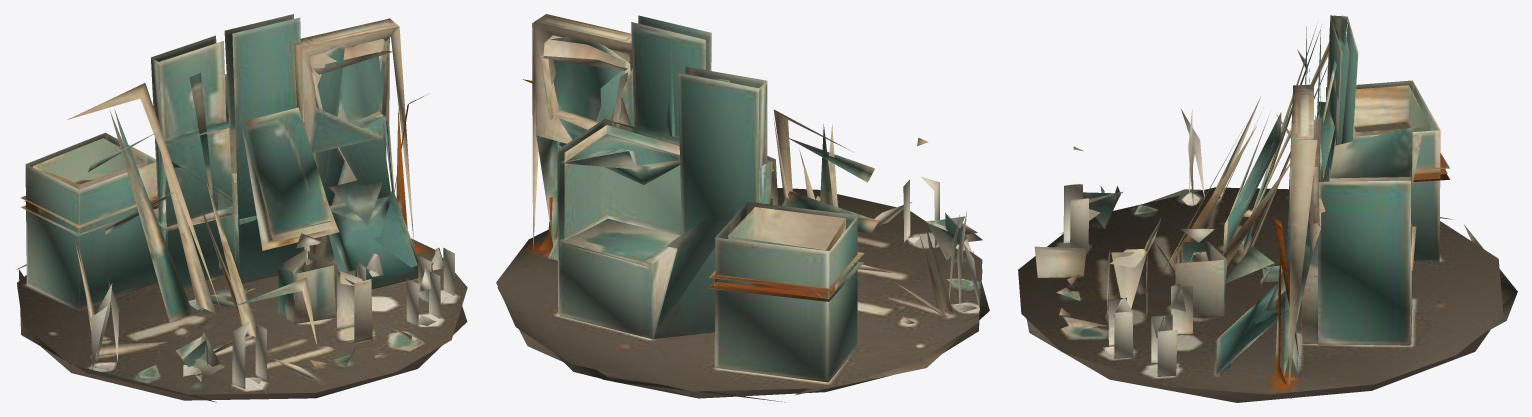
Rendered from salvage-glass.lod1.glb.
The picture shows the model from 3 angles, left to right: view 1: azimuth 30°, elevation 25°; view 2: azimuth 150°, elevation 25°; view 3: azimuth 270°, elevation 25°; orthographic projection. The views are drawn at different scales.
Visible parts, largest first — view 1: salvage-glass_lod1; view 2: salvage-glass_lod1; view 3: salvage-glass_lod1.
Part boxes in pixels (box(x1,y1,x2,y2)): salvage-glass_lod1: box(16, 14, 467, 402); salvage-glass_lod1: box(496, 14, 989, 402); salvage-glass_lod1: box(1018, 15, 1517, 402).
Size of the model in its own units: 0.8063 by 0.5178 by 0.8211.
1 material, 1 textured.
